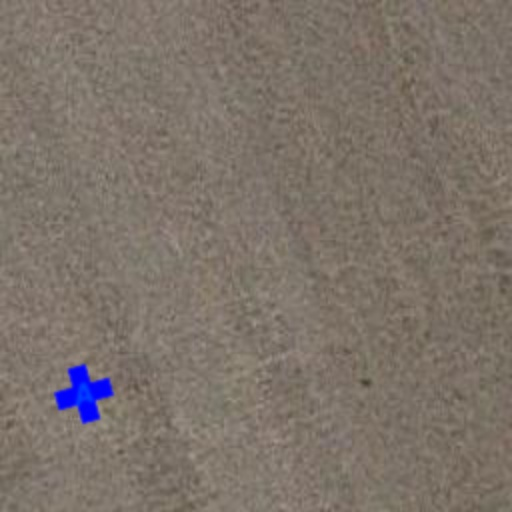cross: (48, 358, 120, 430)
